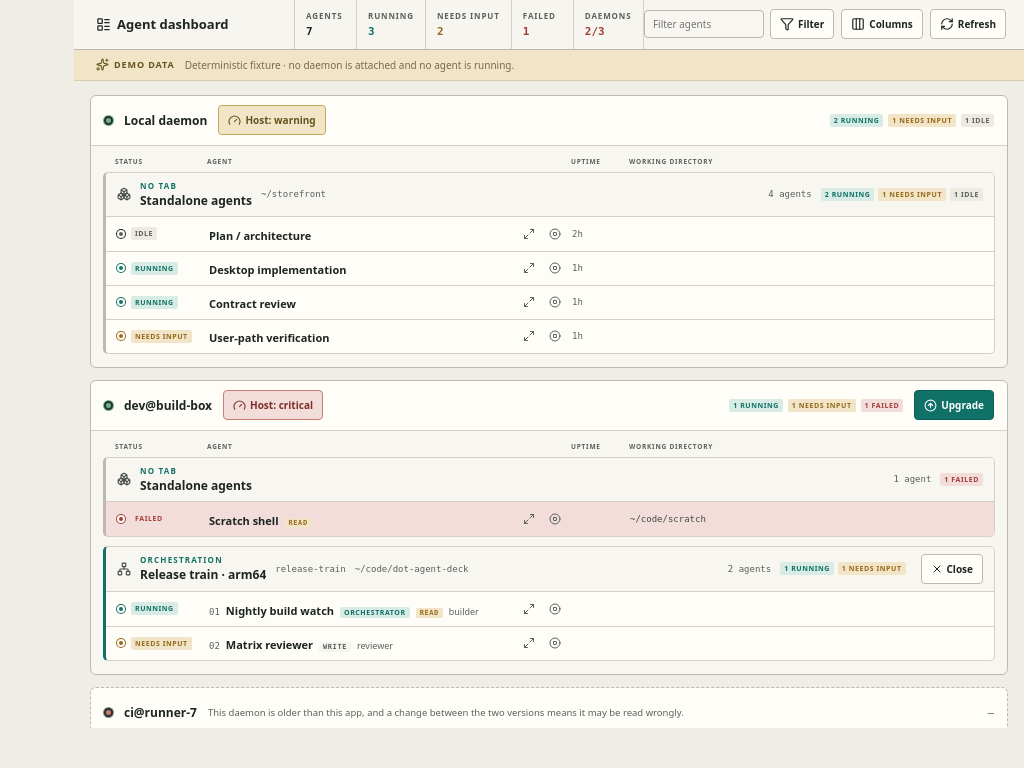
the dashboard's Upgrade action › upgrades the deck whose card it was pressed on
Click the button with test id "daemon-upgrade" at (954, 405), box [914, 390, 994, 420]
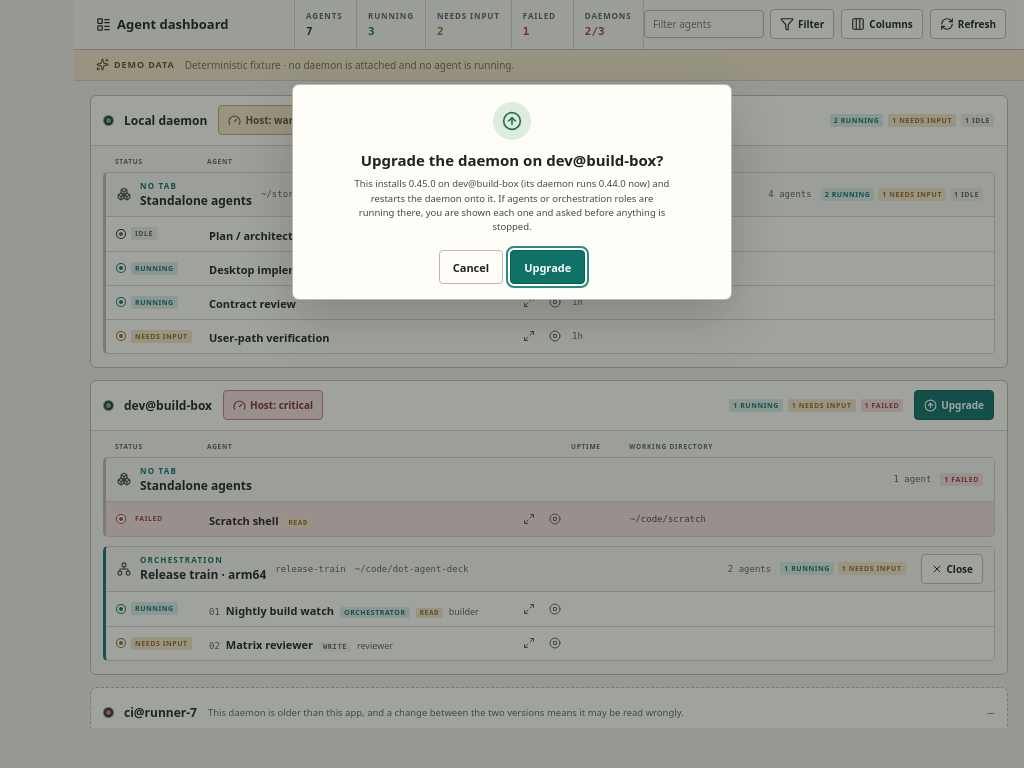
Check: the text with test id "upgrade-confirm-body" shows "This installs 0.45.0", box [355, 178, 670, 233]
Click the button with test id "upgrade-start" at (548, 268), box [510, 250, 585, 284]
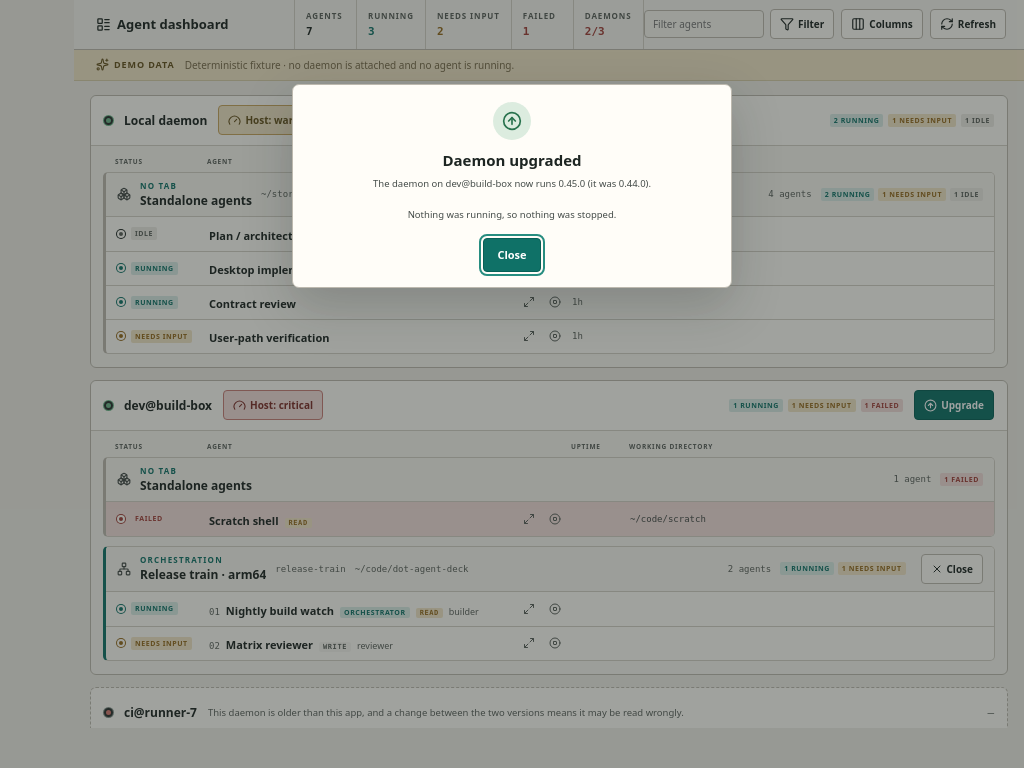
Check: the element with test id "upgrade-outcome" shows "now runs 0.45.0", box [373, 178, 651, 190]
Click the button with test id "upgrade-close" at (512, 255), box [483, 238, 540, 272]
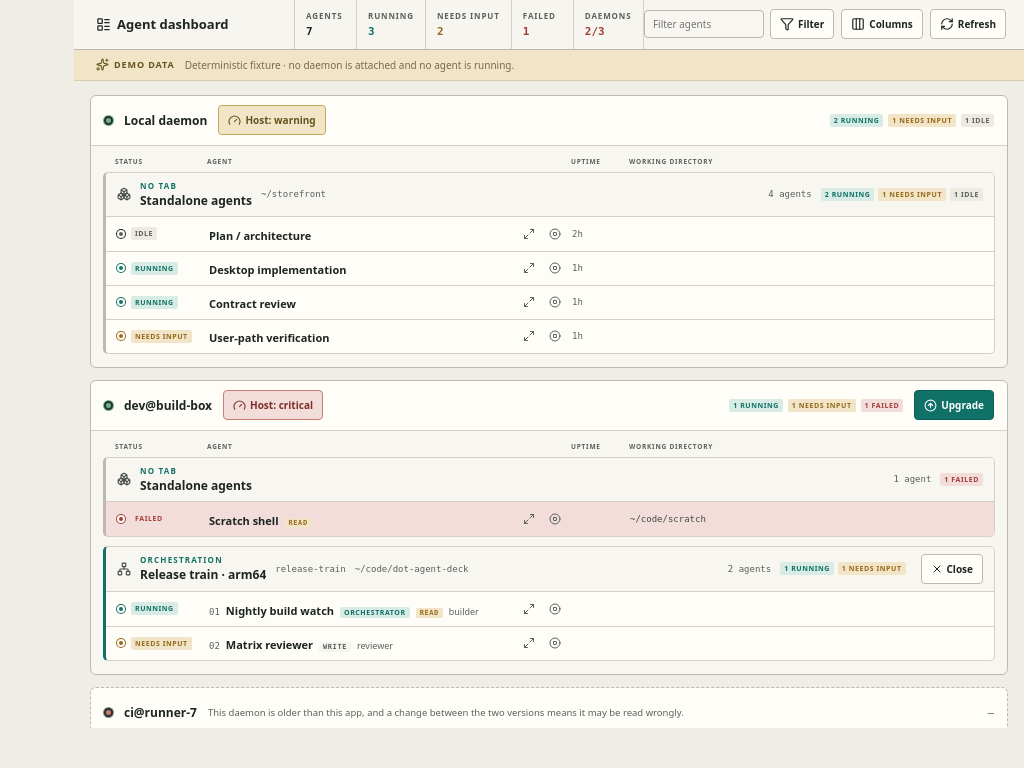
Check: the dialog with test id "upgrade-dialog" is gone
